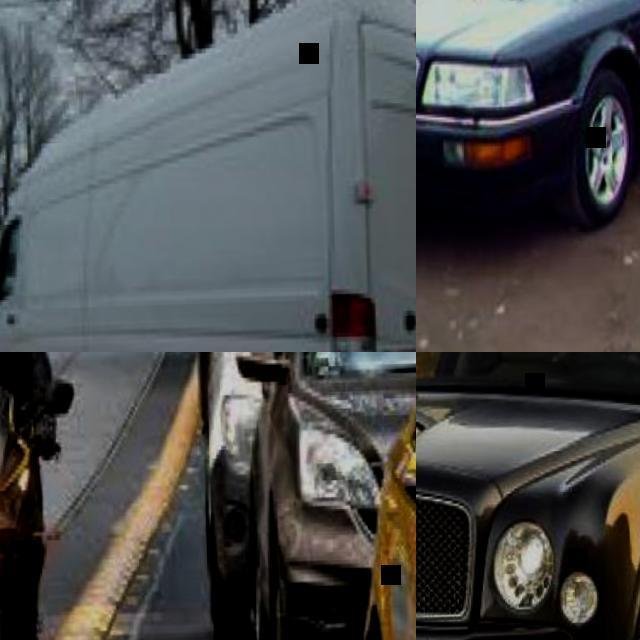car: (0, 0, 440, 639), (417, 0, 637, 237)
